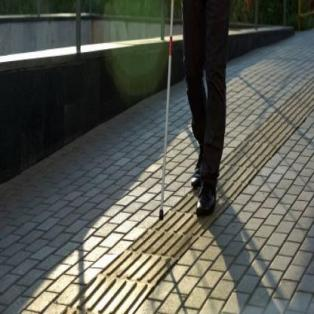Podoctatil: (62, 224, 195, 313)
